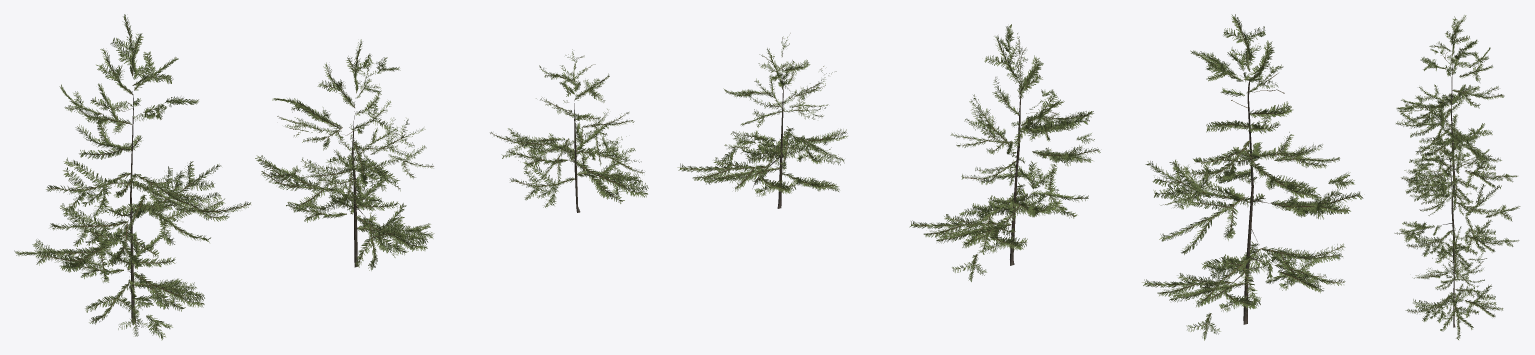
File: fir_sapling.glb
The picture shows the model from 3 angles, left to right: view 1: azimuth 30°, elevation 25°; view 2: azimuth 150°, elevation 25°; view 3: azimuth 270°, elevation 25°; orthographic projection. The views are drawn at different scales.
Parts seen in each view (by area): view 1: fir_sapling_a; view 2: fir_sapling_a; view 3: fir_sapling_a.
Part boxes in pixels (x1,y1,x2,y2): fir_sapling_a: (14,14,648,340); fir_sapling_a: (677,14,1363,340); fir_sapling_a: (1394,15,1520,339).
Size of the model in its own units: 2.74 by 1.3 by 0.8239.
Materials: 2 (2 with a texture image).
